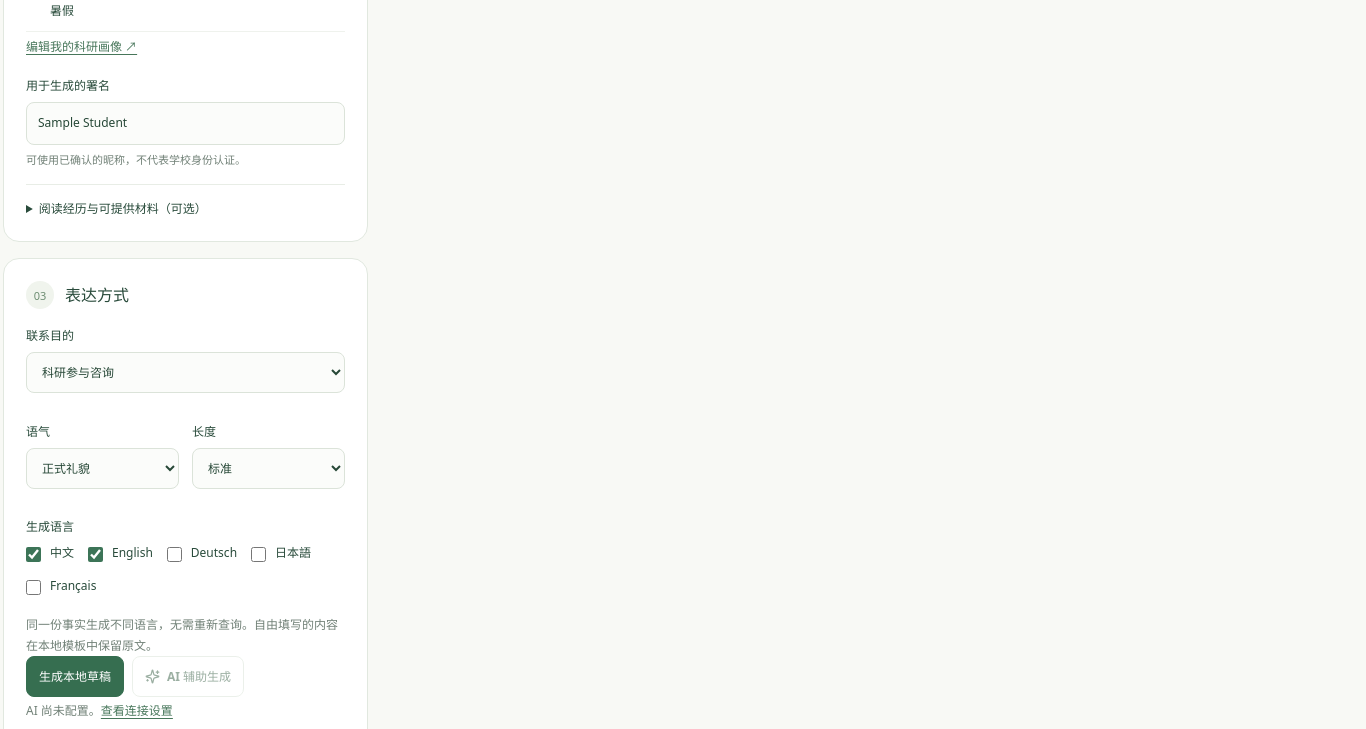
integrated module UI paths › loads catalog identity and sources but requires explicit confirmation
(page scrolled)
Click the button "生成本地草稿": (75, 676) [26, 656, 124, 697]
(page scrolled)
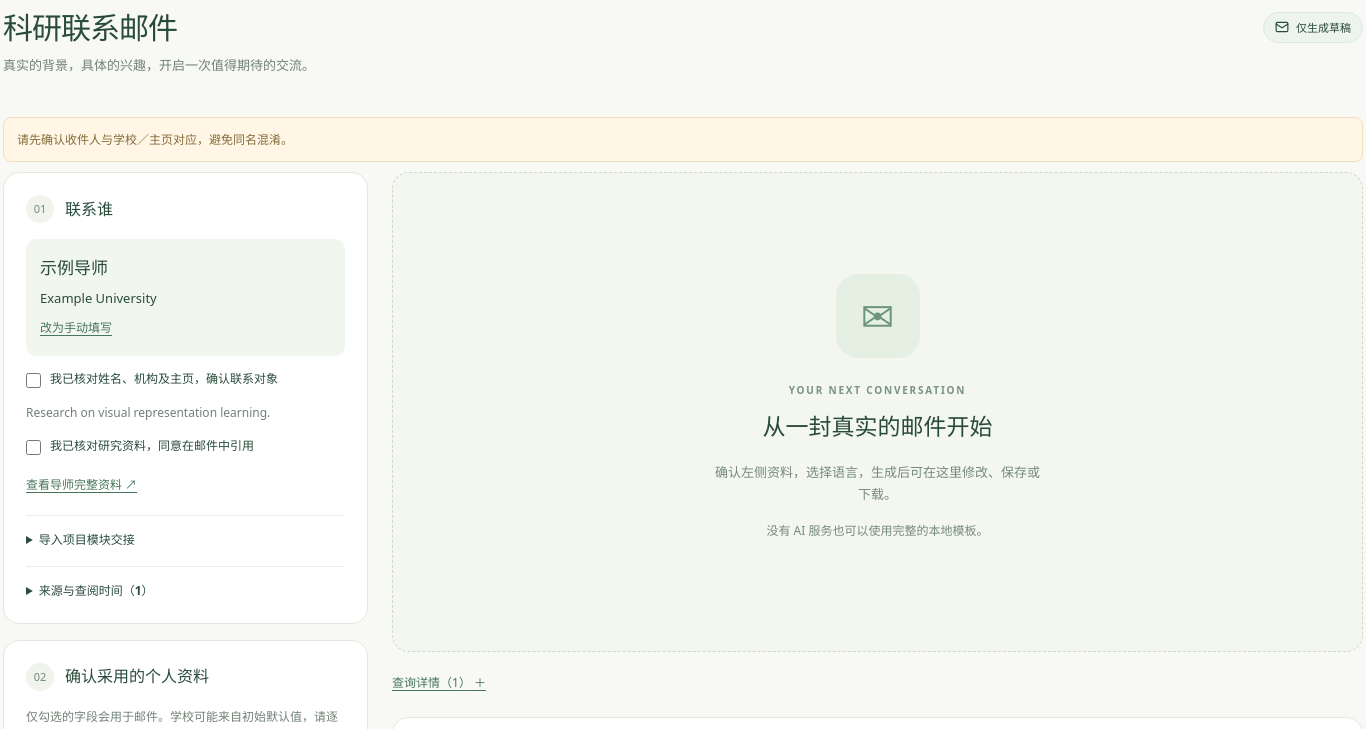
expect the message "请先确认收件人与学校／主页对应，避免同名混淆。" is shown: met, box [3, 117, 1363, 162]
Click the checkbox labelled "我已核对姓名、机构及主页，确认联系对象": (34, 381) [26, 373, 41, 388]
(page scrolled)
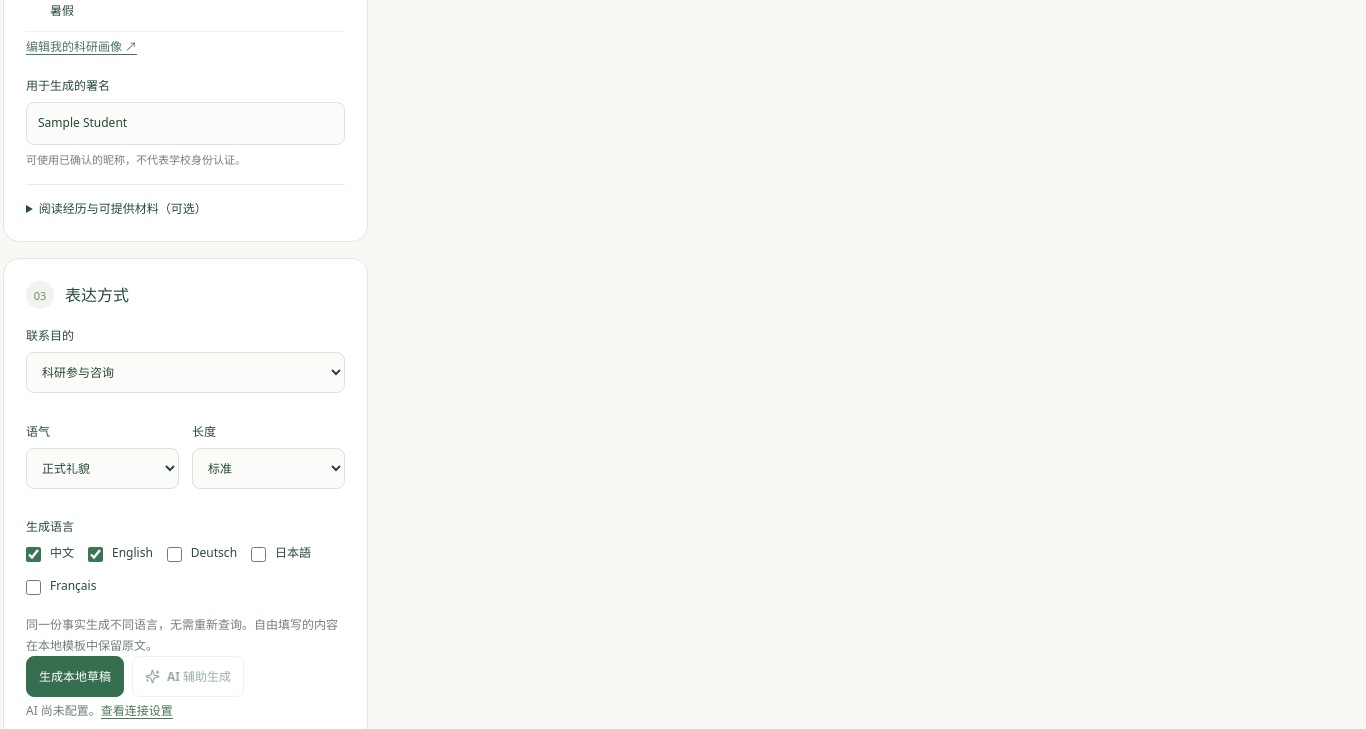
Click the button "生成本地草稿": (75, 676) [26, 656, 124, 697]
(page scrolled)
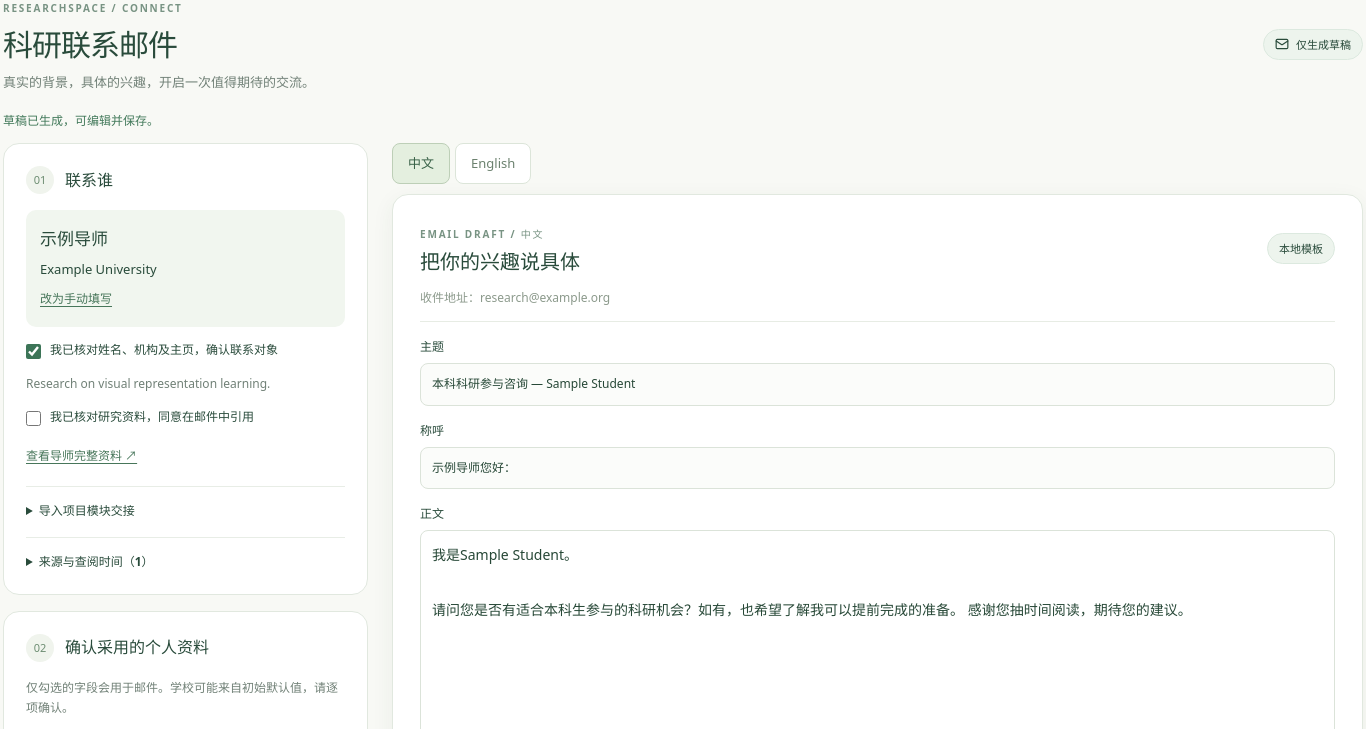
expect the text "收件地址：research@example.org" is shown: met, box [420, 275, 1335, 322]
